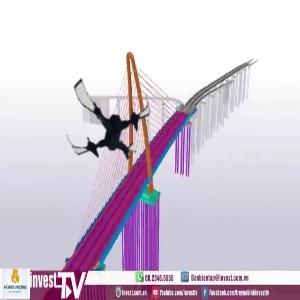drone: (60, 72, 157, 169)
